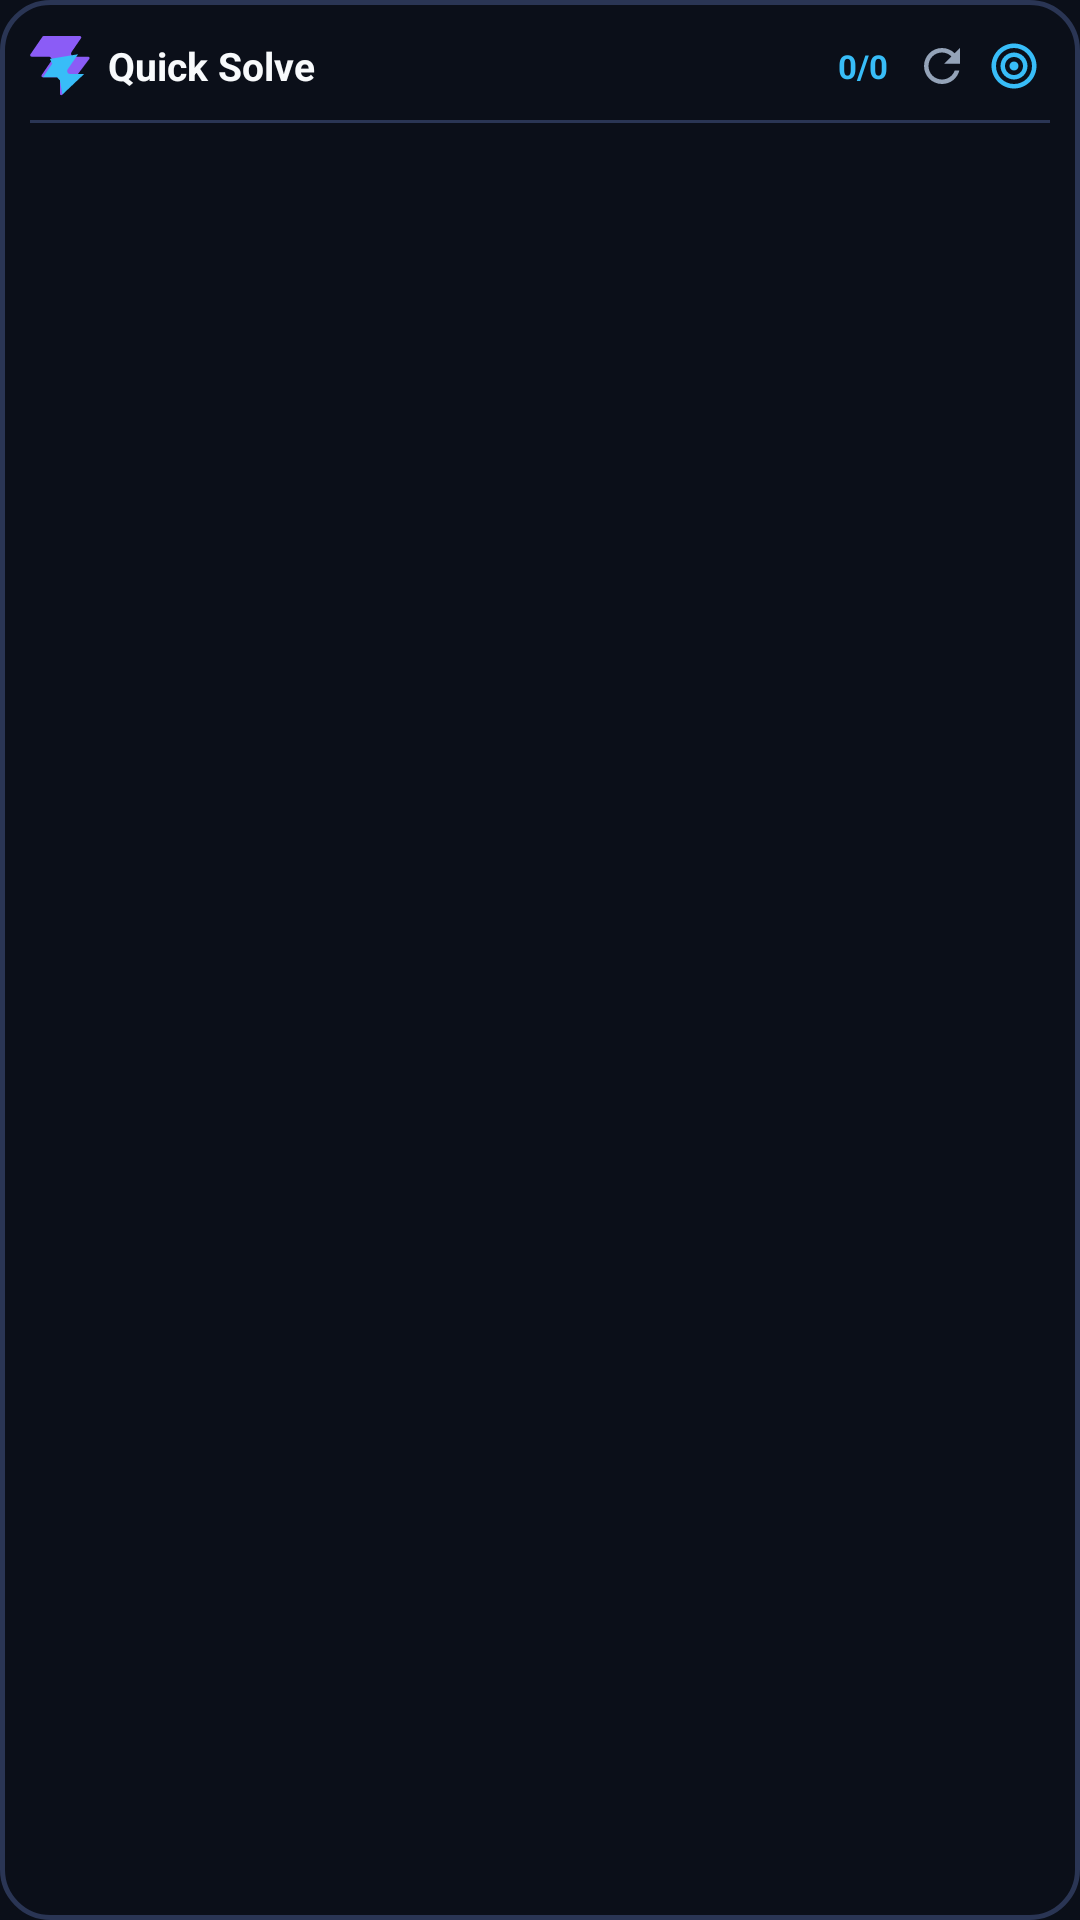

Where to tap for icons on this 1080px×1920px app screen, as (x=x, y=y):
Refresh: (x=942, y=66)
